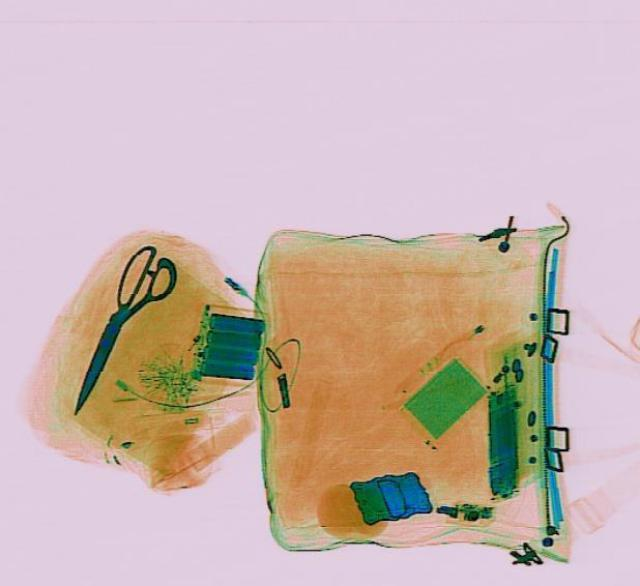Scissors: (46, 238, 188, 422)
